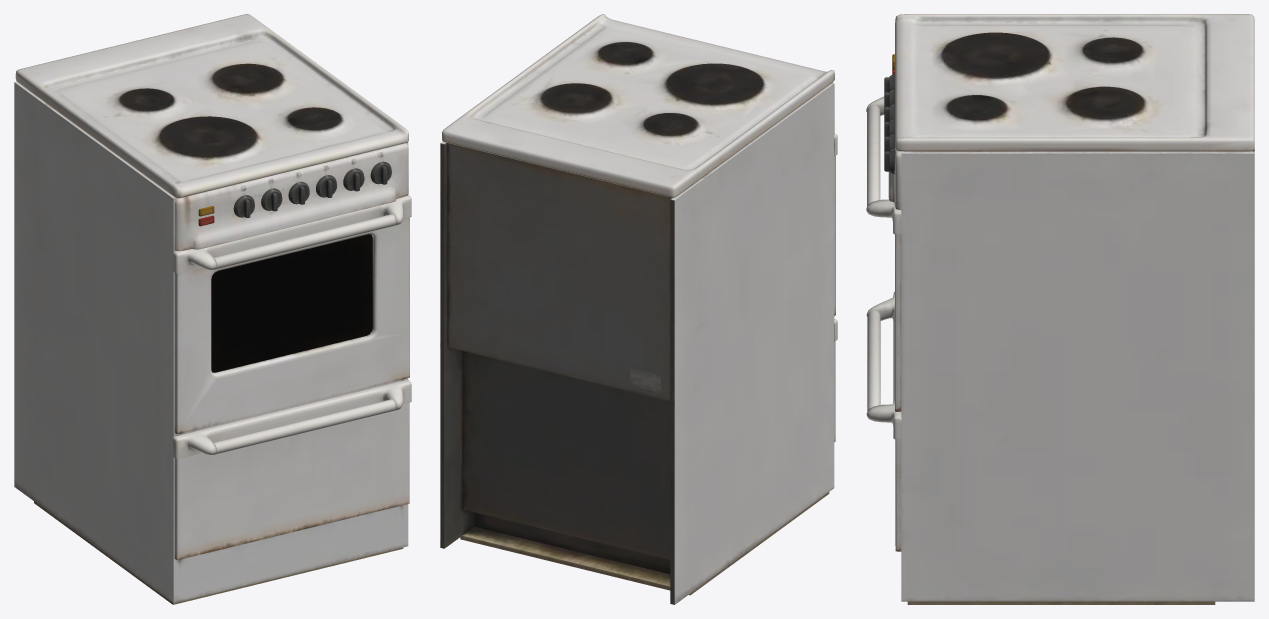
The model's file is electric_stove.glb.
3 renders of one model, left to right at view 1: azimuth 30°, elevation 25°; view 2: azimuth 150°, elevation 25°; view 3: azimuth 270°, elevation 25°, orthographic. The views are drawn at different scales.
Parts seen in each view (by area): view 1: stovetop, door_top; view 2: stovetop; view 3: stovetop.
Boxes of the visible parts, x1,y1,x2,y2 form: stovetop: [14, 14, 411, 604]; door_top: [211, 234, 372, 372]; stovetop: [440, 14, 837, 604]; stovetop: [866, 14, 1254, 604].
Bounding box in the file's own units: 0.5026 × 0.8587 × 0.6477.
Materials: 2 (2 with a texture image).
